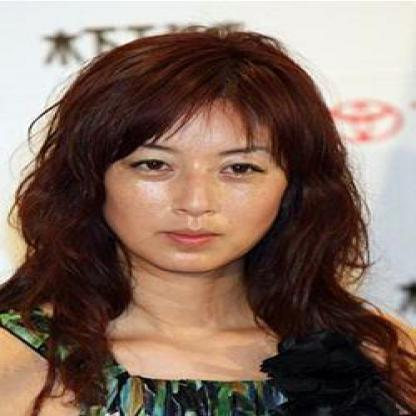long-hair: (6, 271, 372, 314)
